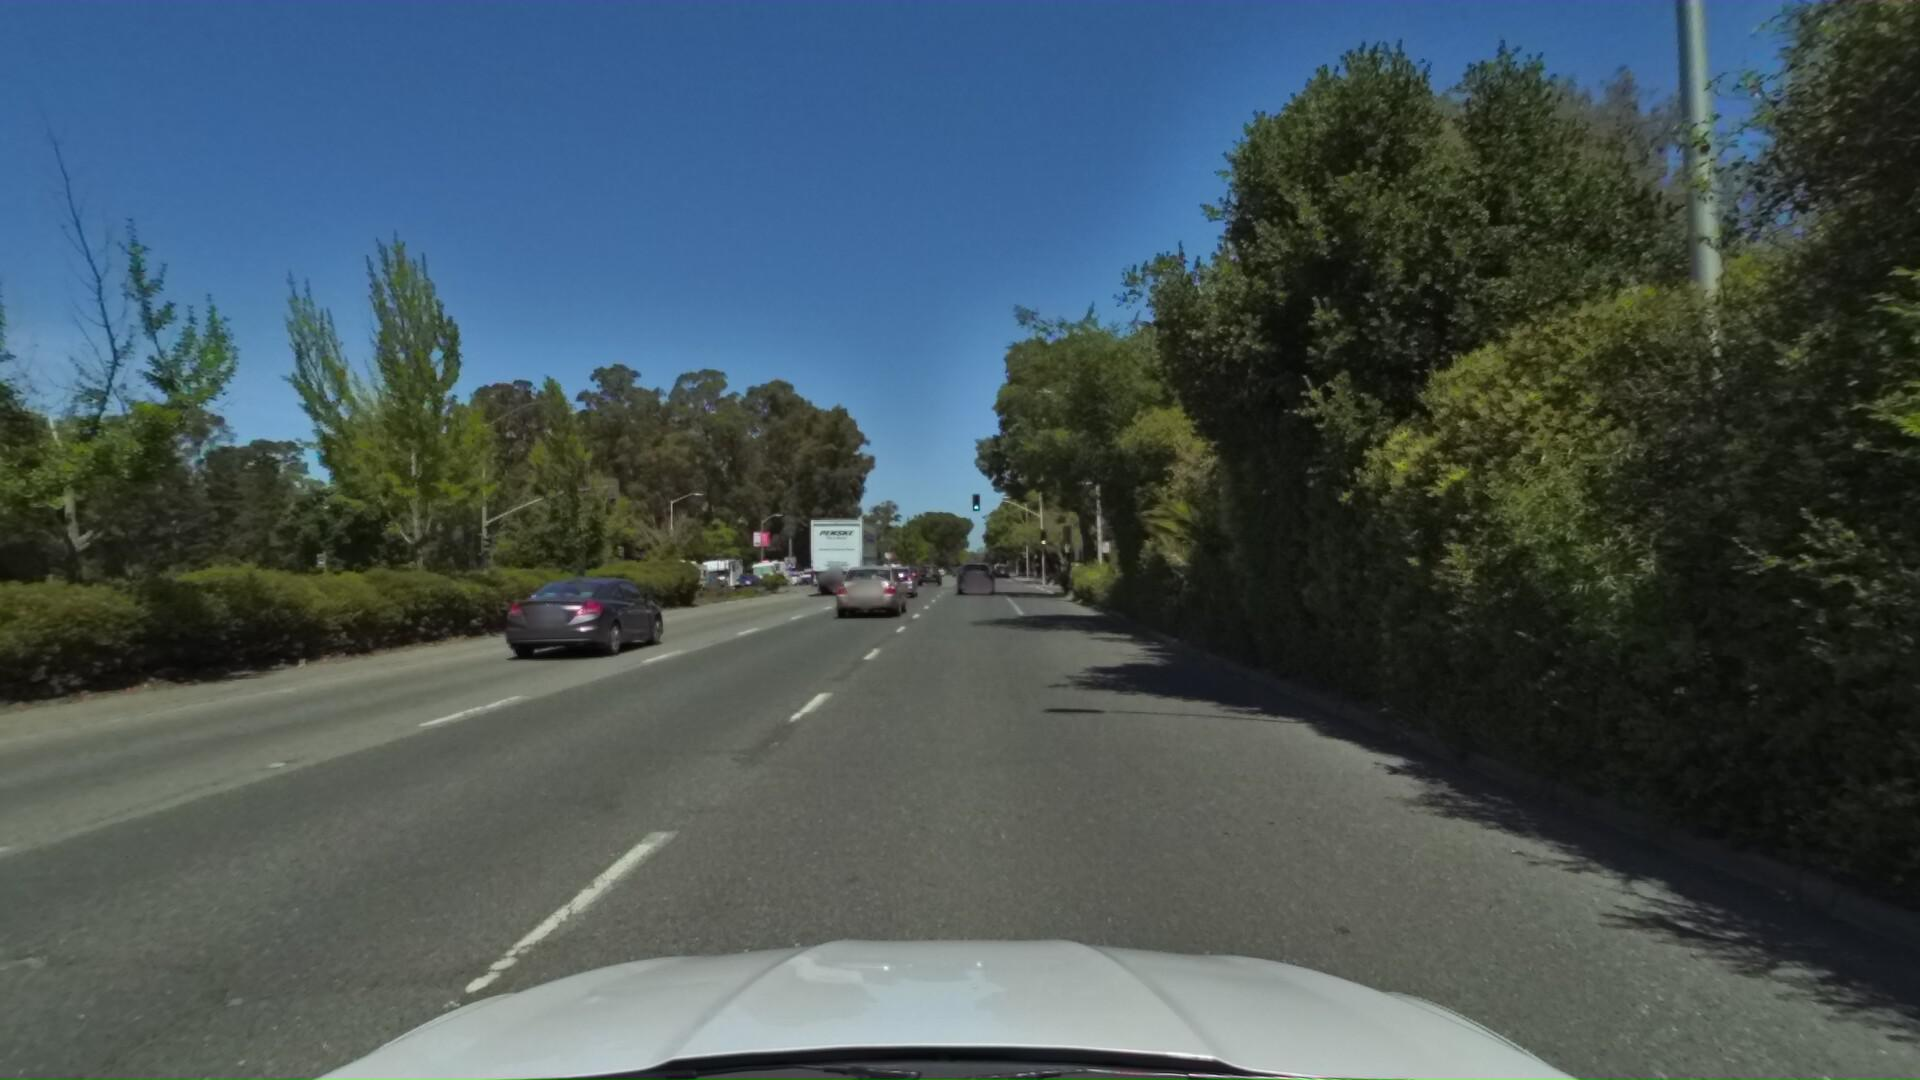car: (495, 574, 673, 667), (829, 562, 910, 622), (953, 559, 998, 597), (876, 564, 919, 599), (1030, 564, 1098, 585), (910, 560, 942, 587)
truck: (806, 513, 884, 596)
